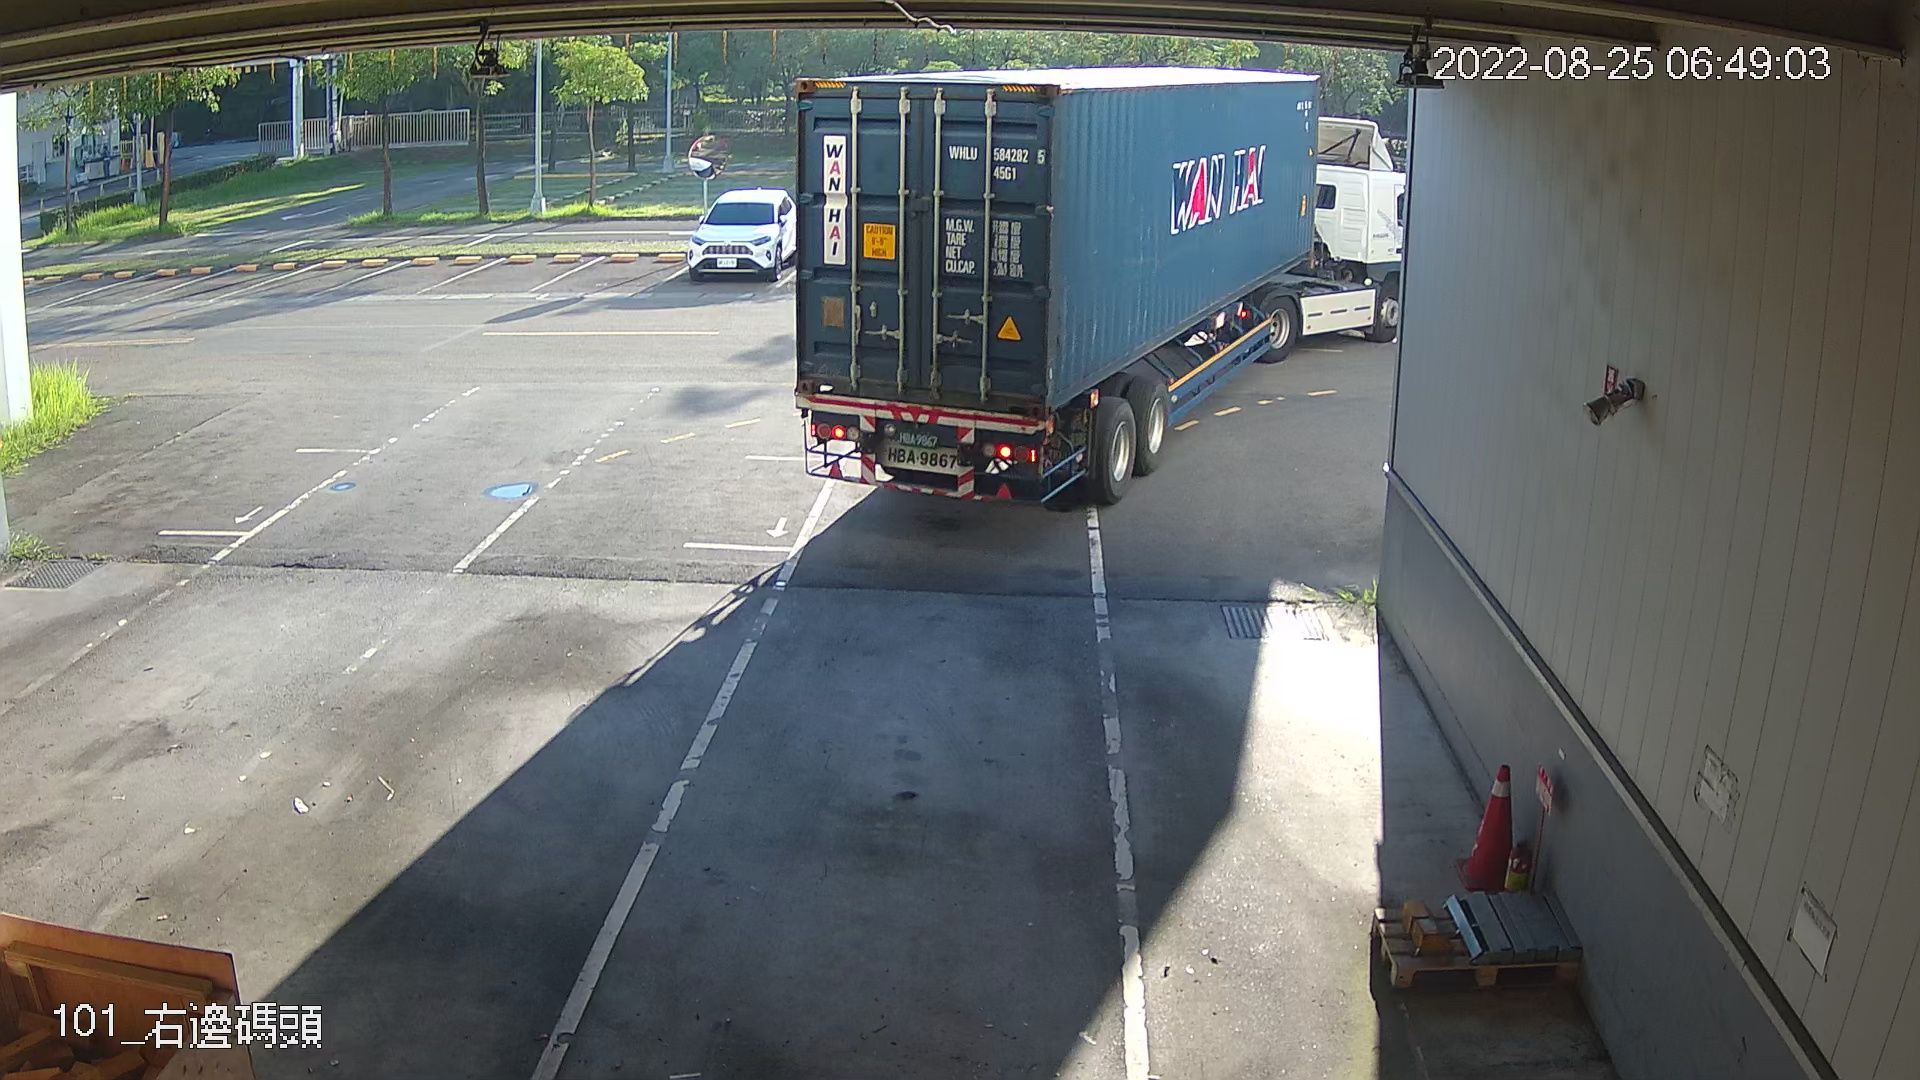container: (944, 138, 1050, 185)
